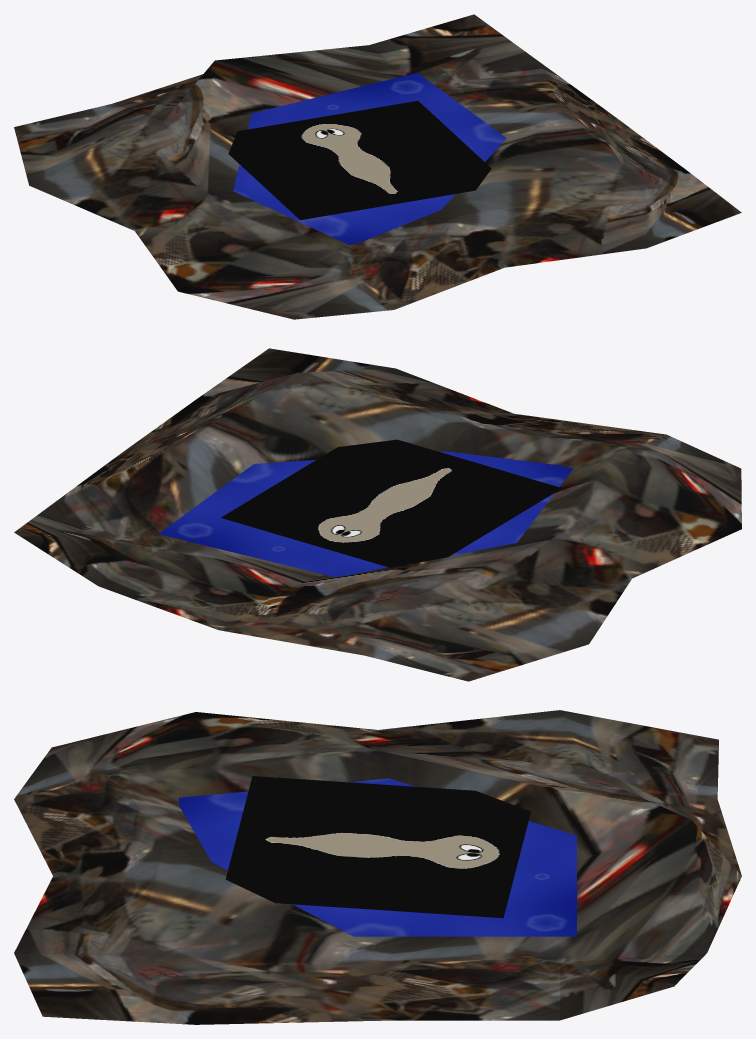
The model's file is Collabo.fbx.
The picture shows the model from 3 angles, top to bottom: view 1: azimuth 30°, elevation 25°; view 2: azimuth 150°, elevation 25°; view 3: azimuth 270°, elevation 25°; orthographic projection. The views are drawn at different scales.
Parts seen in each view (by area): view 1: GomiFace, Planetalia, Water; view 2: GomiFace, Planetalia, Water; view 3: GomiFace, Planetalia, Water.
Boxes of the visible parts, x1=… form: GomiFace: x1=14, y1=14, x2=741, y2=319; Planetalia: x1=228, y1=100, x2=491, y2=220; Water: x1=233, y1=73, x2=506, y2=244; GomiFace: x1=14, y1=348, x2=741, y2=681; Planetalia: x1=221, y1=439, x2=561, y2=567; Water: x1=158, y1=451, x2=572, y2=577; GomiFace: x1=14, y1=710, x2=741, y2=1024; Planetalia: x1=225, y1=776, x2=530, y2=918; Water: x1=179, y1=778, x2=576, y2=936.
Size of the model in its own units: 203 by 21.17 by 200.
